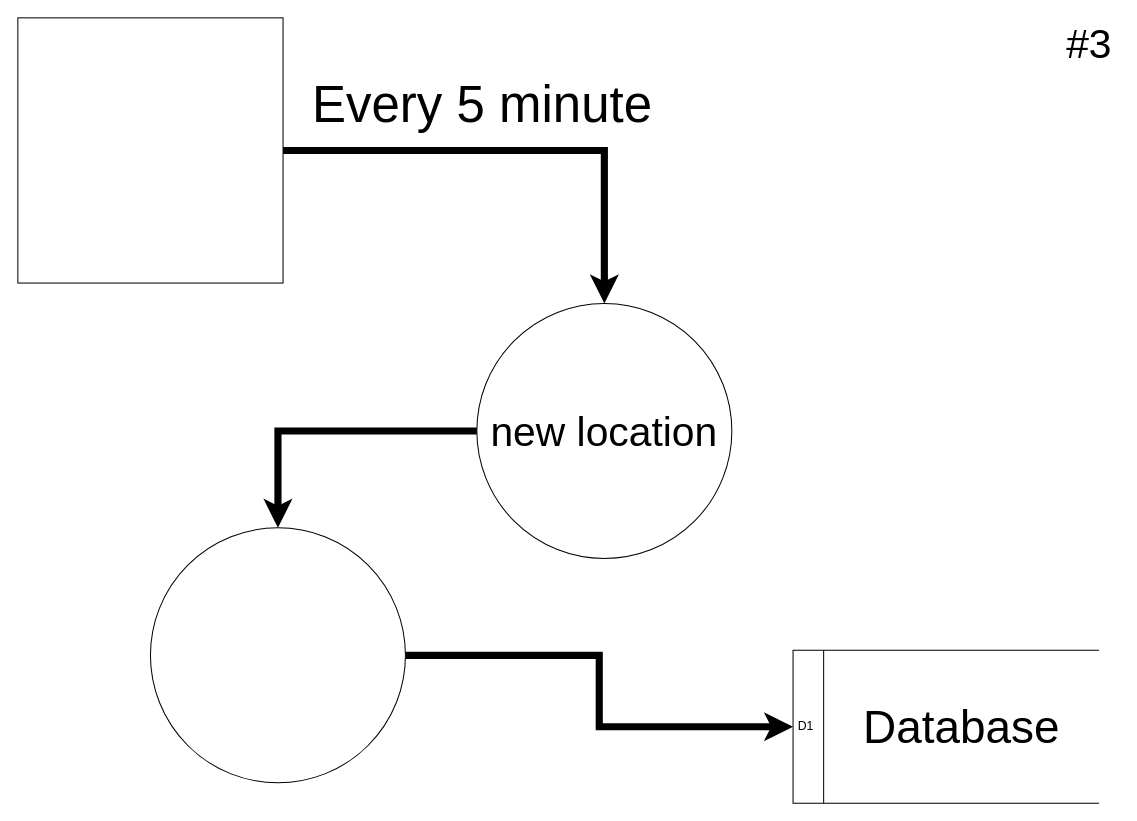
The diagram is 1137 pixels wide and 821 high, and some of its shapes have lost their labels. The centre of each missing label's shape, as x and y in pixels:
Check mission: the point at 277,655
User: the point at 150,150
